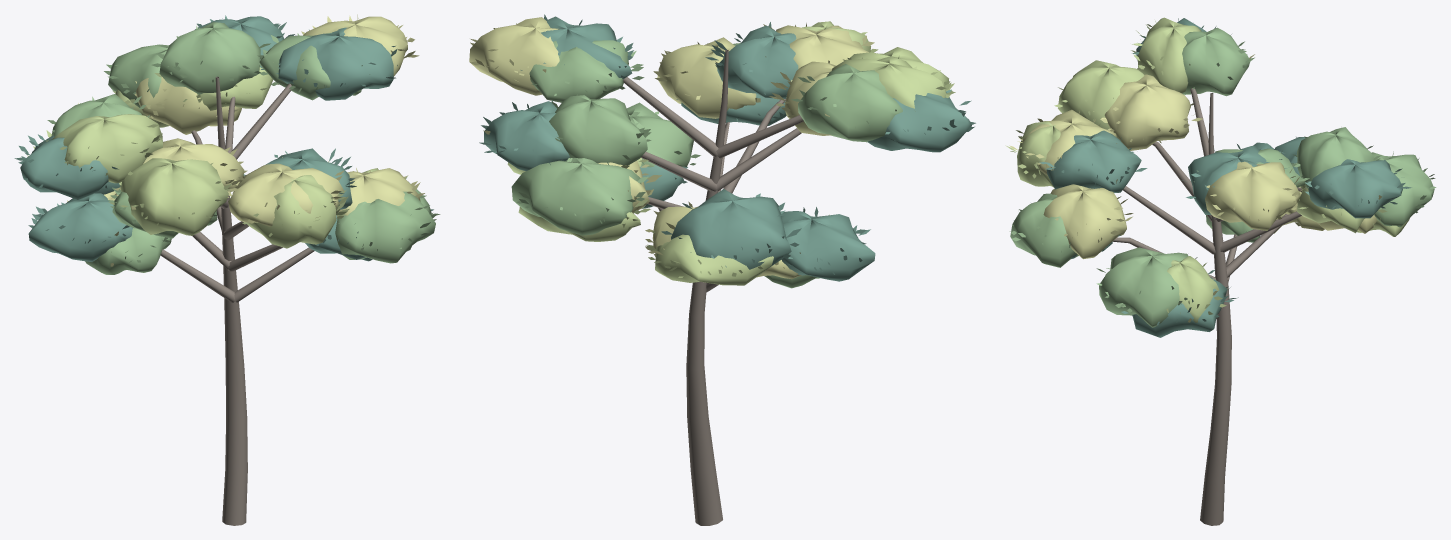
Rendered from maple_high.glb.
3 views of the same model, side by side, from view 1: azimuth 30°, elevation 25°; view 2: azimuth 150°, elevation 25°; view 3: azimuth 270°, elevation 25° (orthographic). The views are drawn at different scales.
Visible parts, largest first — view 1: maple_high; view 2: maple_high; view 3: maple_high.
Part boxes in pixels (x1,y1,x2,y2): maple_high: (14, 14, 440, 525); maple_high: (469, 14, 975, 525); maple_high: (1005, 17, 1436, 525).
Bounding box in the file's own units: 8.56 × 8.65 × 7.95.
